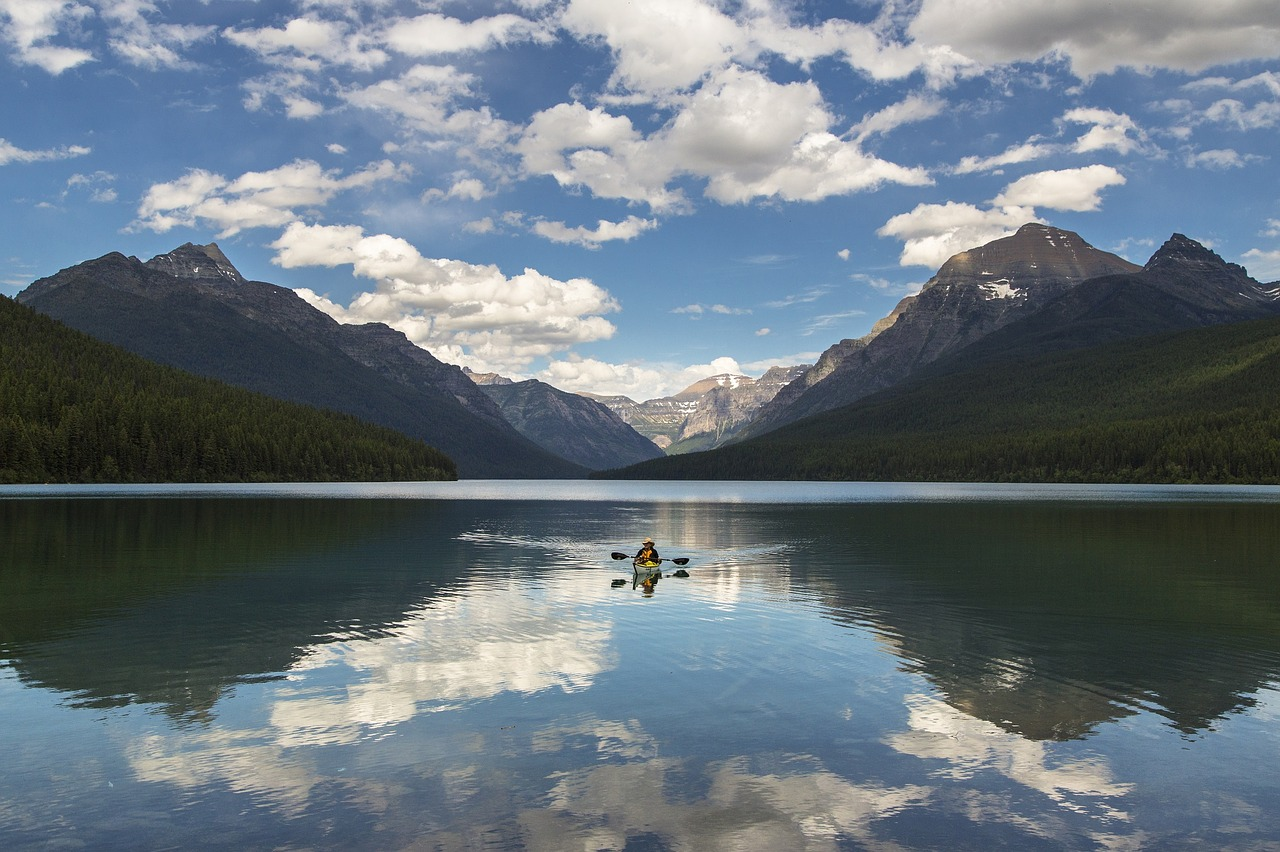kayak: (630, 558, 663, 576)
